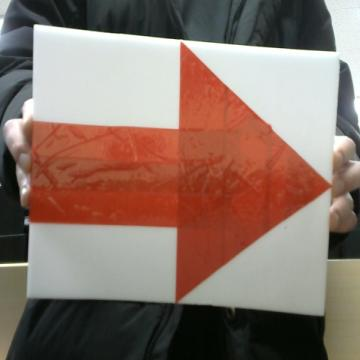red_right: (30, 43, 330, 301)
